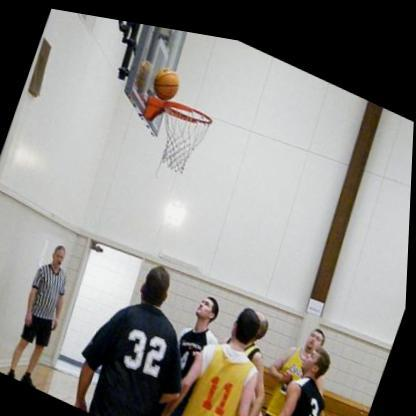basketball: (149, 55, 186, 102)
